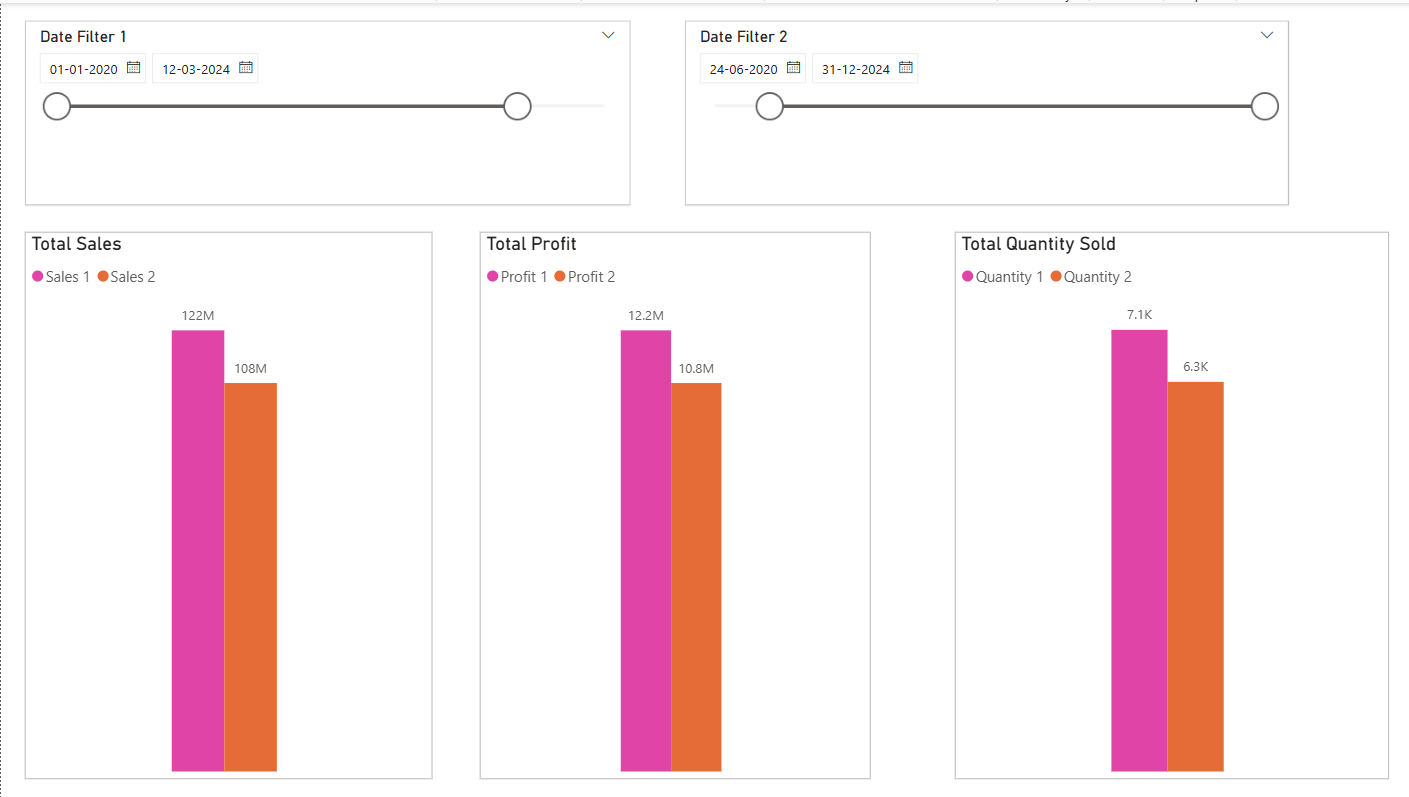

Layout of this report page (visuals, bound fields, positions):
{"tool":"powerbi","page":{"name":"Comparison Sales/Profit/Quantity","canvas":[1280,720],"ordinal":2},"visuals":[{"type":"slicer","fields":{"Values":["Date Table 1.Date"]},"box":[20.9,16.3,547.7,167.4],"z":0},{"type":"slicer","fields":{"Values":["Date Table 2.Date"]},"box":[618.6,16.3,546.5,167.4],"z":1000},{"type":"clusteredColumnChart","title":"Total Sales","fields":{"Y":["Sum(Fact Table.Net Sales )","Date Table 1.Sum of Net Sales"]},"box":[20.9,207,368.6,495.4],"z":2000},{"type":"clusteredColumnChart","title":"Total Profit","fields":{"Y":["Sum(Fact Table.Profit )","Measures Table.Total Profit"]},"box":[432.6,207,353.5,495.4],"z":3000},{"type":"clusteredColumnChart","title":"Total Quantity Sold","fields":{"Y":["Sum(Fact Table.Units Sold)","Measures Table.Total Quantity sold"]},"box":[862.8,207,393,495.4],"z":4000}]}

Visuals, with their boxes in screenshot pixels (x1, y1, x2, y2), scaled from the page's 1280x720 canvas onto the 1409x797 screenshot:
slicer - Date Table 1.Date: x1=23, y1=18, x2=626, y2=203
slicer - Date Table 2.Date: x1=681, y1=18, x2=1283, y2=203
"Total Sales" clusteredColumnChart: x1=23, y1=229, x2=429, y2=778
"Total Profit" clusteredColumnChart: x1=476, y1=229, x2=865, y2=778
"Total Quantity Sold" clusteredColumnChart: x1=950, y1=229, x2=1382, y2=778
